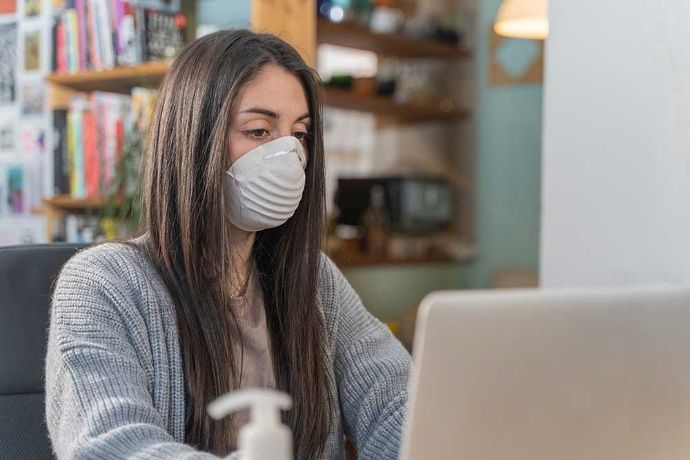with_mask: (154, 31, 337, 253)
